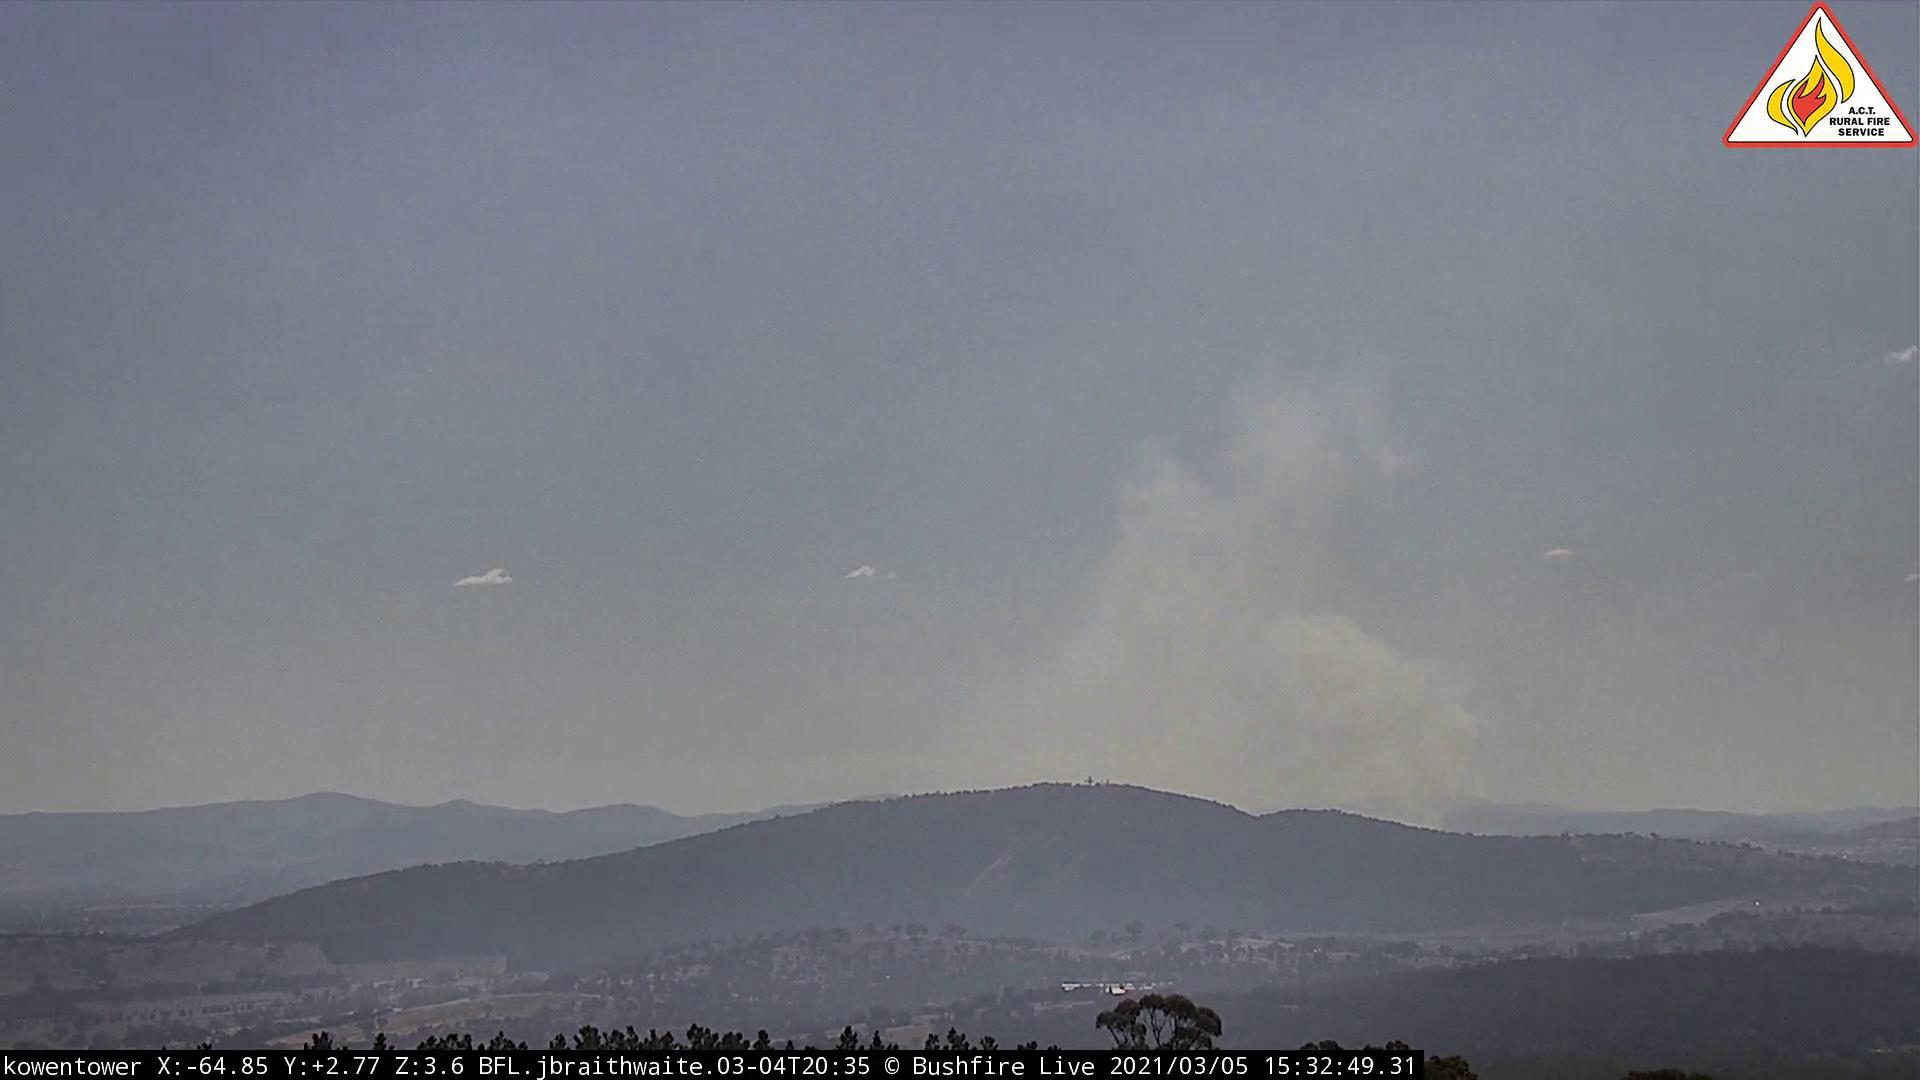Smoke: (1000, 344, 1513, 848)
